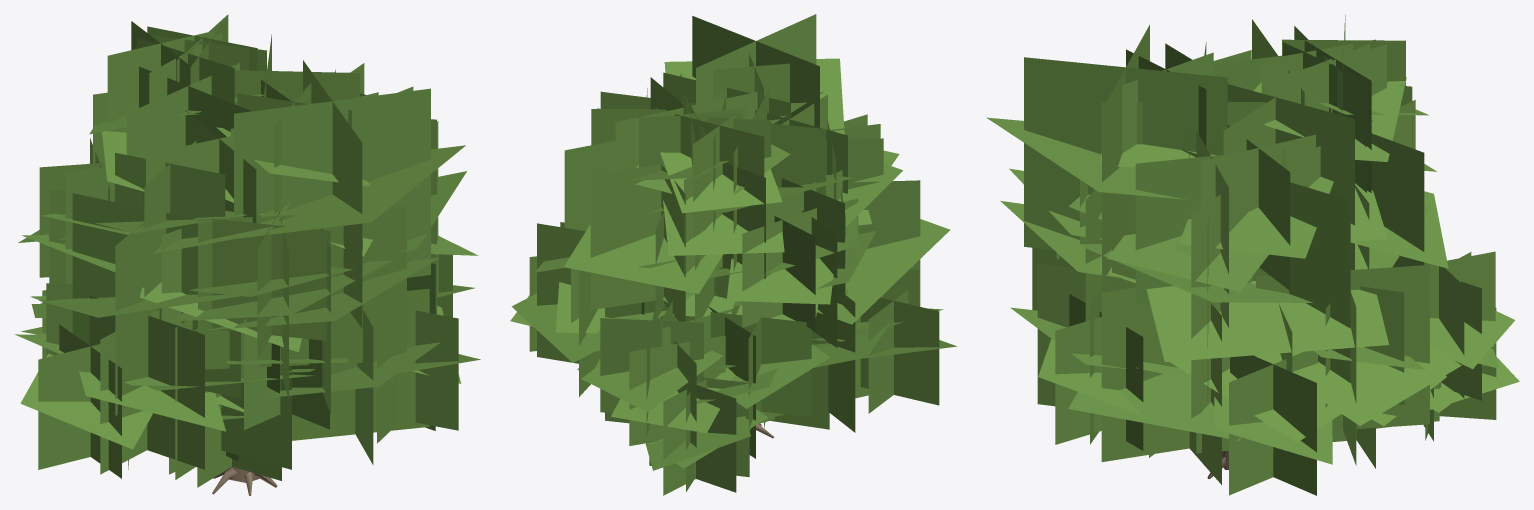
Rendered from pommier_2_f2_loin.glb.
The picture shows the model from 3 angles, left to right: view 1: azimuth 30°, elevation 25°; view 2: azimuth 150°, elevation 25°; view 3: azimuth 270°, elevation 25°; orthographic projection. The views are drawn at different scales.
Parts seen in each view (by area): view 1: Pommier_T2_f2_Leger_Loin; view 2: Pommier_T2_f2_Leger_Loin; view 3: Pommier_T2_f2_Leger_Loin.
Boxes of the visible parts, box(x1,y1,x2,y2) form: Pommier_T2_f2_Leger_Loin: box(15, 14, 480, 495); Pommier_T2_f2_Leger_Loin: box(510, 14, 957, 495); Pommier_T2_f2_Leger_Loin: box(986, 15, 1519, 495).
Size of the model in its own units: 7.17 by 6.13 by 7.06.
